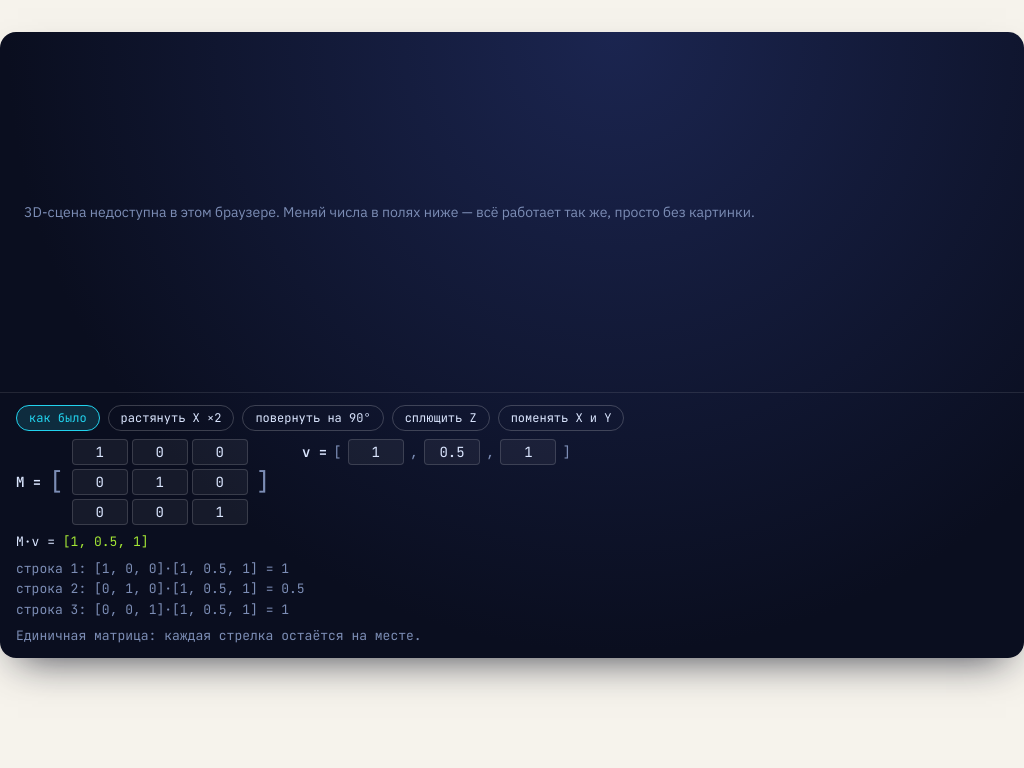
Test: MatrixTransform3D without WebGL › shows M·v for the identity and recomputes after a preset
Expected: the text "3D-сцена недоступна" is shown, [24, 203, 755, 221]
Expected: the text "M·v = [1, 0.5, 1]" is shown, [16, 533, 149, 550]
What coordinates should you click on to do the following:
click the button "растянуть X ×2"
I would click on:
 (171, 418)
Its box is [108, 405, 234, 431].
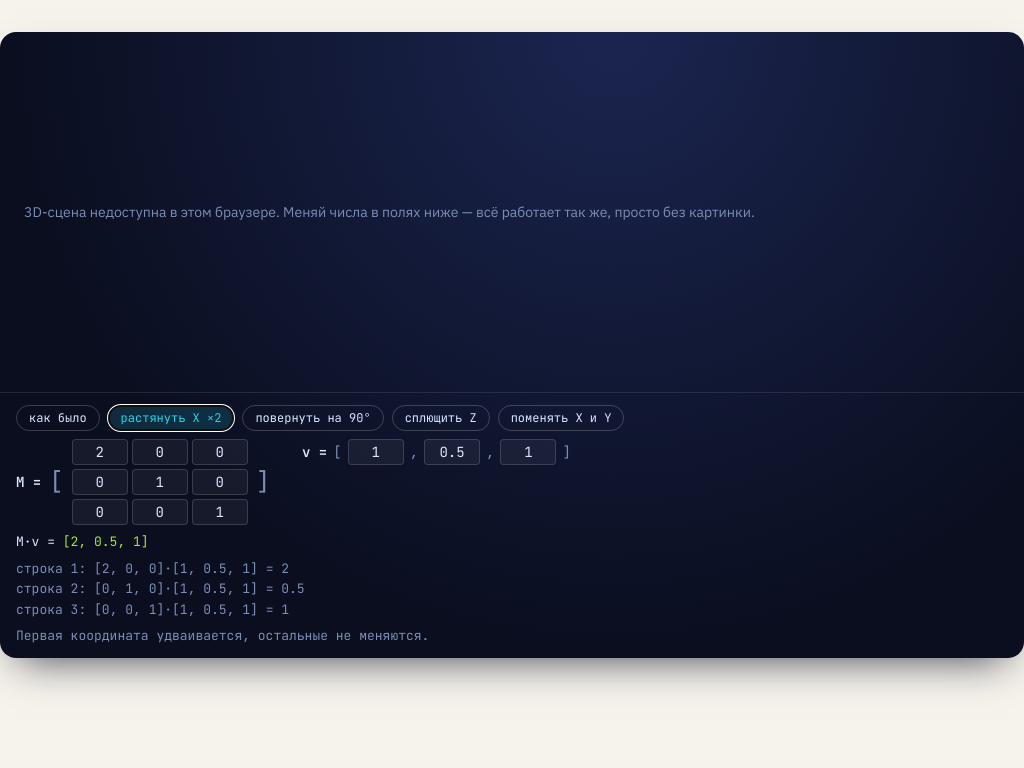
Result: the text "M·v = [2, 0.5, 1]" is shown at [16, 533, 149, 550]
Result: the text "Первая координата удваивается, остальные не меняются." is shown at [16, 627, 429, 644]
